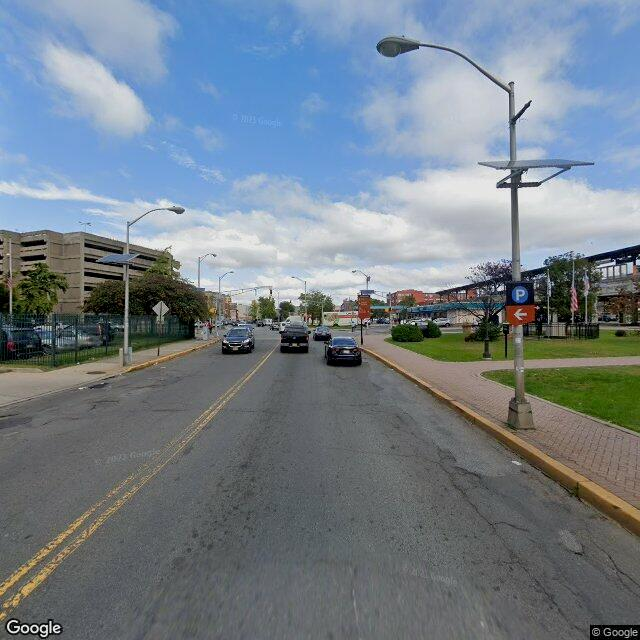pothole: (546, 527, 596, 564)
